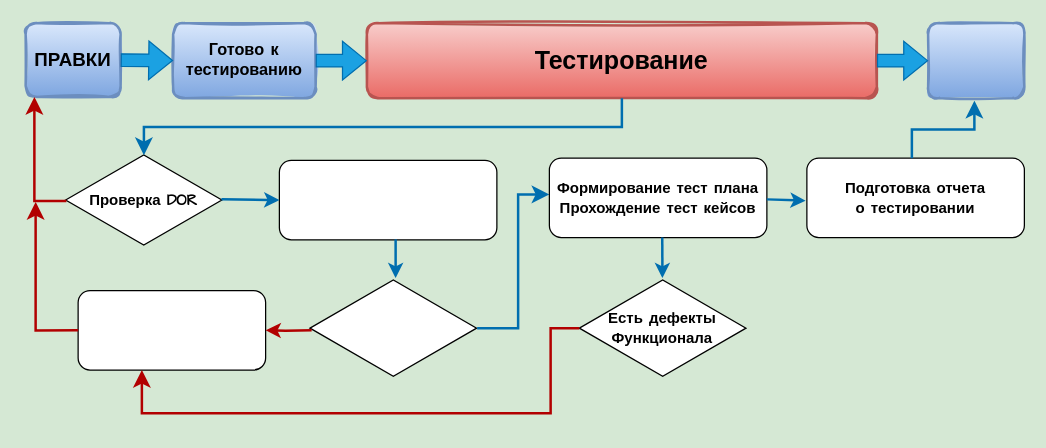
This 1046x448 diagram has some shape labels left out. The box of each missing label's shape, as (x1, y1, x2, y2) in pixels:
UAT: (926, 21, 1025, 99)
Есть дефекты требований: (309, 277, 477, 378)
Регистрация дефектов: (77, 289, 266, 370)
Этап анализа требований Подготовка тест кейсов: (278, 159, 497, 240)
